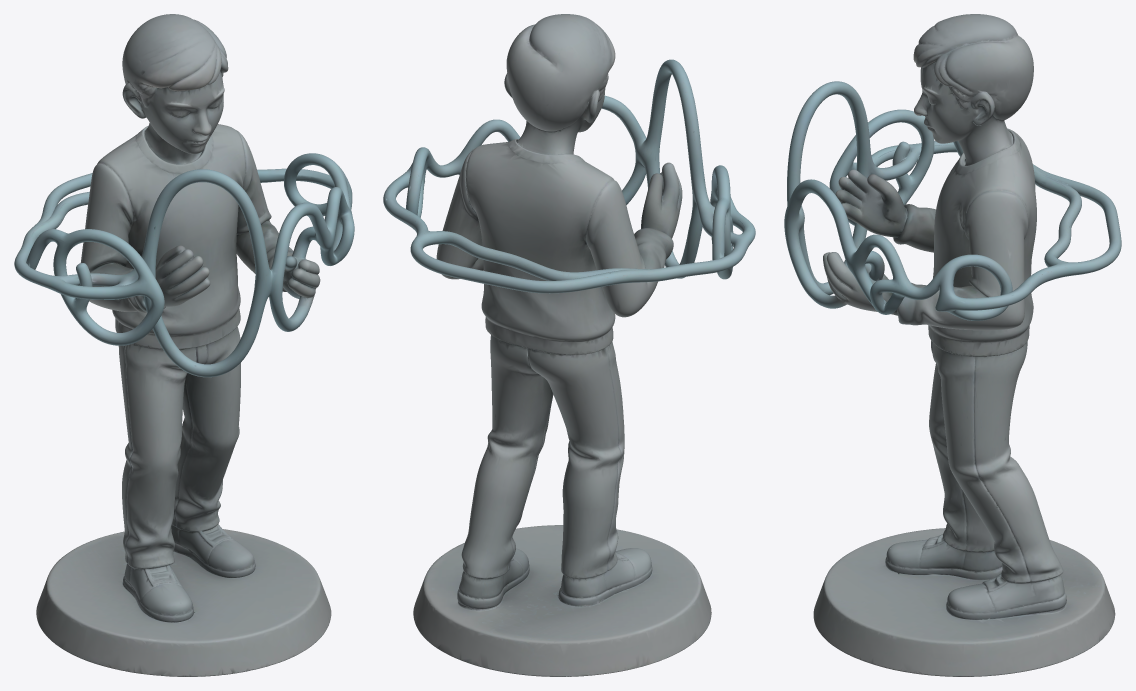
The picture shows the model from 3 angles, left to right: view 1: azimuth 30°, elevation 25°; view 2: azimuth 150°, elevation 25°; view 3: azimuth 270°, elevation 25°; orthographic projection.
Parts seen in each view (by area): view 1: material; view 2: material; view 3: material.
Boxes of the visible parts, bbox=[...] form: material: bbox=[14, 14, 354, 676]; material: bbox=[383, 14, 755, 676]; material: bbox=[784, 14, 1121, 676].
Bounding box in the file's own units: 0.6402 × 1.08 × 0.557.
Materials: 1 (1 with a texture image).
